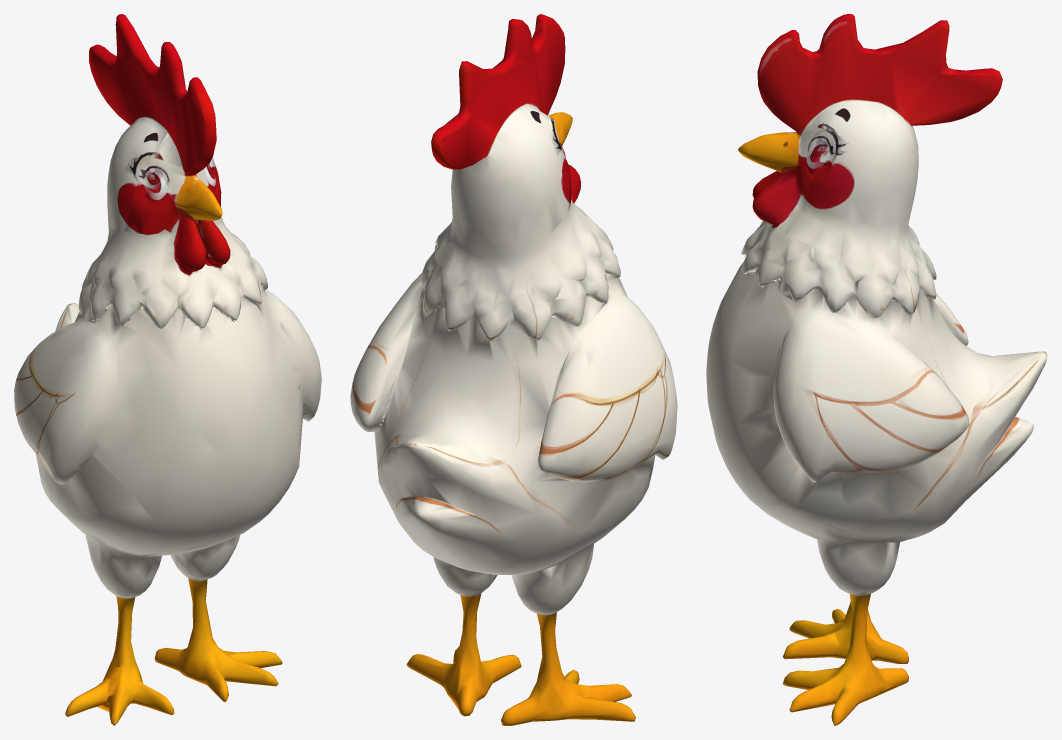
Rendered from chicken.glb.
3 views of the same model, side by side, from view 1: azimuth 30°, elevation 25°; view 2: azimuth 150°, elevation 25°; view 3: azimuth 270°, elevation 25° (orthographic). The views are drawn at different scales.
Bounding box in the file's own units: 0.8373 × 1.91 × 0.8975.
Materials: 1 (1 with a texture image).
